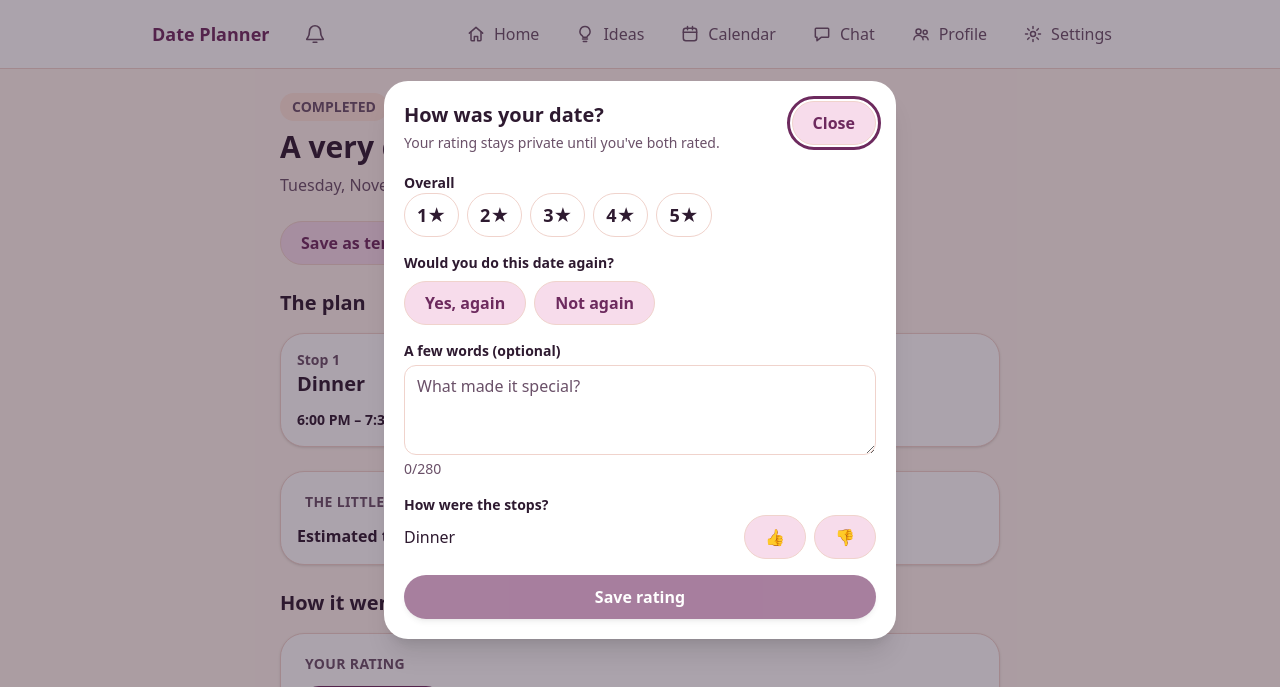
Test: FeedbackSection › opens the rating sheet once for ?rate=1, then drops the param
Expected: the dialog "How was your date?" is shown, [384,81,896,639]
What coordinates should you click on to do the following:
click the button with aria-label "Close rating"
I would click on:
 (834, 123)
Its box is [792,101,876,145].
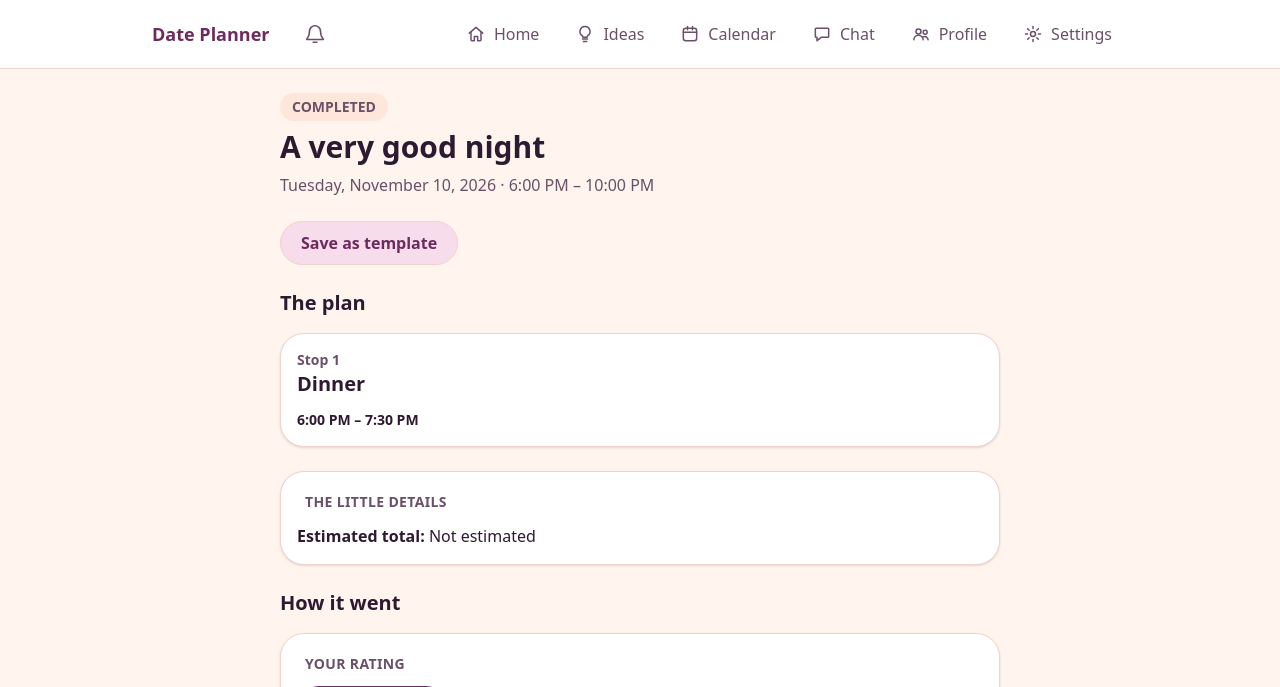
Expected: the dialog is gone
